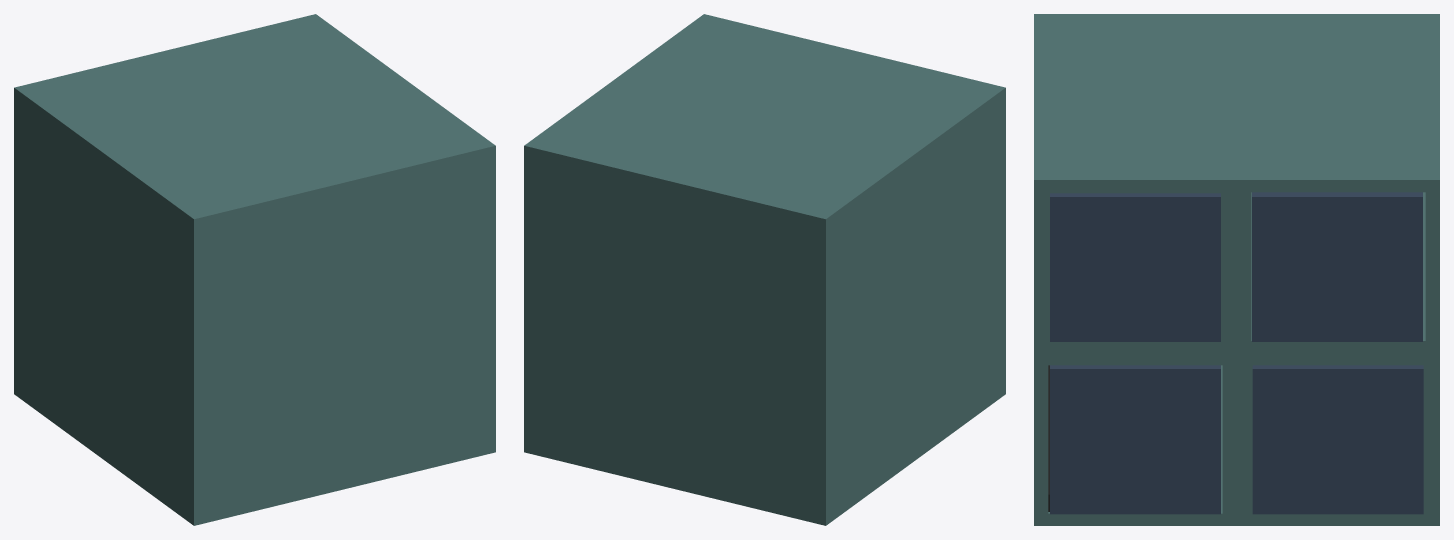
File: Morgue Cabinet_Reverse.fbx
3 renders of one model, left to right at view 1: azimuth 30°, elevation 25°; view 2: azimuth 150°, elevation 25°; view 3: azimuth 270°, elevation 25°, orthographic. The views are drawn at different scales.
Visible parts, largest first — view 1: Body; view 2: Body; view 3: Body, Door4, Door2, Door3, Door.
Part boxes in pixels (x1,y1,x2,y2): Body: (14, 14, 495, 525); Body: (524, 14, 1005, 525); Body: (1034, 14, 1439, 525); Door4: (1252, 365, 1423, 514); Door2: (1252, 192, 1422, 341); Door3: (1050, 365, 1220, 514); Door: (1050, 193, 1220, 341).
Bounding box in the file's own units: 663 × 630 × 670.
